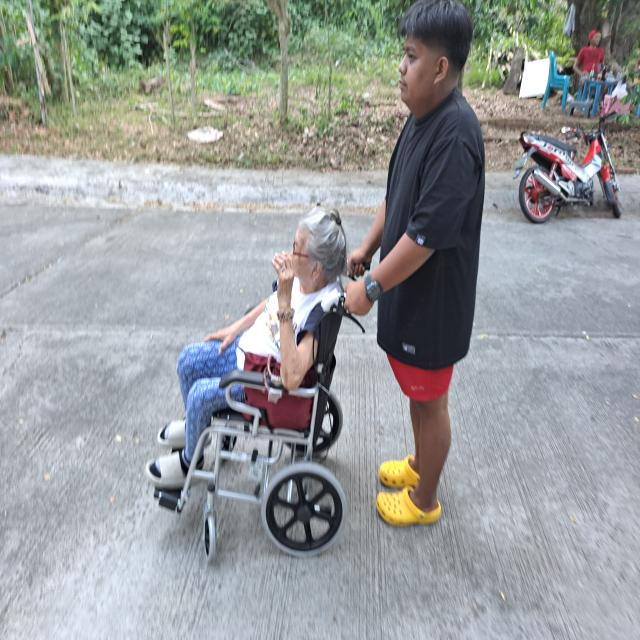wheelchairs: (148, 254, 372, 572)
